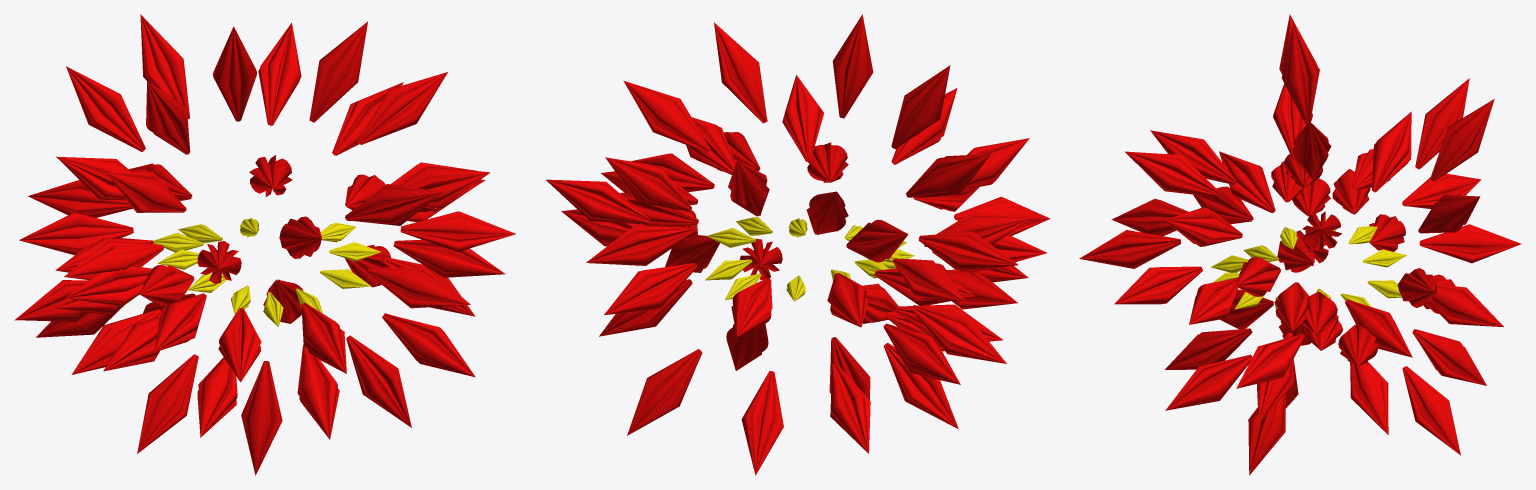
Rendered from ヒットエフェクト２.fbx.
3 renders of one model, left to right at view 1: azimuth 30°, elevation 25°; view 2: azimuth 150°, elevation 25°; view 3: azimuth 270°, elevation 25°, orthographic. The views are drawn at different scales.
Visible parts, largest first — view 1: 切り札.001, 切り札.004, 切り札, 切り札.003, 切り札.002; view 2: 切り札.001, 切り札.003, 切り札, 切り札.004, 切り札.002; view 3: 切り札.004, 切り札, 切り札.003, 切り札.001, 切り札.002.
Boxes of the visible parts, left/top/right/bottom form: 切り札.001: left=64, top=21, right=476, bottom=475; 切り札.004: left=55, top=14, right=505, bottom=439; 切り札: left=19, top=155, right=515, bottom=382; 切り札.003: left=14, top=166, right=490, bottom=337; 切り札.002: left=153, top=218, right=380, bottom=326; 切り札.001: left=601, top=14, right=1018, bottom=429; 切り札.003: left=599, top=75, right=1033, bottom=475; 切り札: left=586, top=132, right=1050, bottom=336; 切り札.004: left=546, top=157, right=1003, bottom=351; 切り札.002: left=705, top=217, right=914, bottom=301; 切り札.004: left=1165, top=78, right=1494, bottom=410; 切り札: left=1079, top=149, right=1521, bottom=357; 切り札.003: left=1125, top=130, right=1486, bottom=455; 切り札.001: left=1248, top=14, right=1341, bottom=475; 切り札.002: left=1211, top=218, right=1406, bottom=309.
Bounding box in the file's own units: 443 × 421 × 421.
